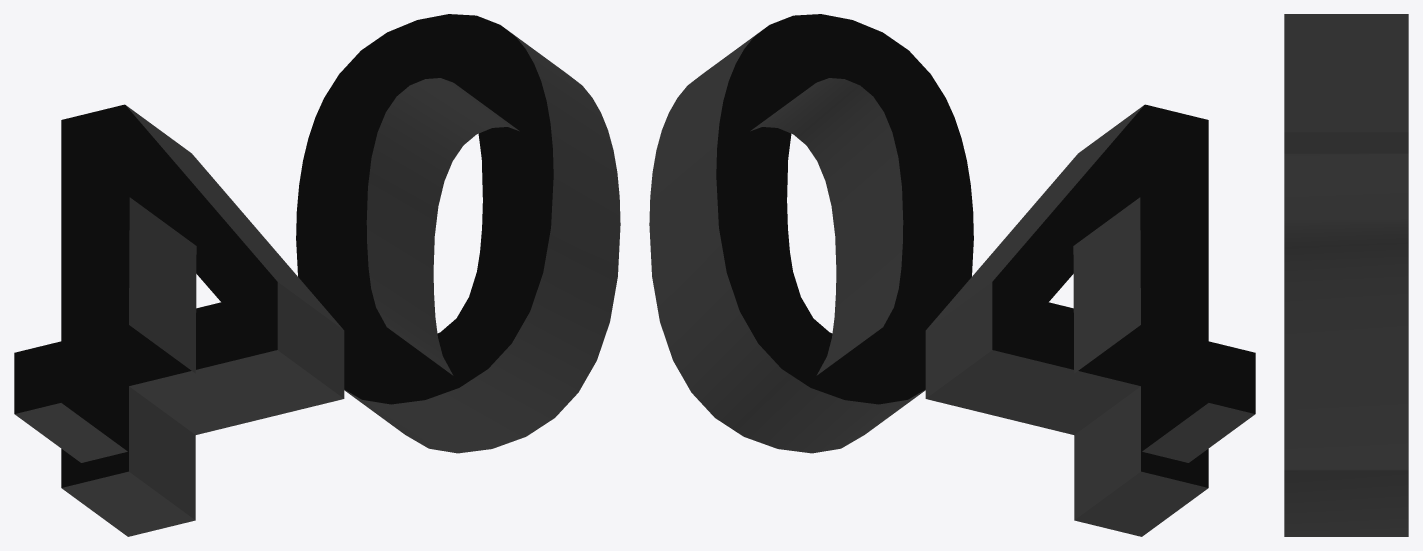
The model's file is ps2_save-icons_colinmcraerally04.glb.
The picture shows the model from 3 angles, left to right: view 1: azimuth 30°, elevation 25°; view 2: azimuth 150°, elevation 25°; view 3: azimuth 270°, elevation 25°; orthographic projection. The views are drawn at different scales.
Parts seen in each view (by area): view 1: icon.ico; view 2: icon.ico; view 3: icon.ico.
Part boxes in pixels (x1,y1,x2,y2): icon.ico: [14, 14, 620, 536]; icon.ico: [649, 14, 1255, 536]; icon.ico: [1284, 14, 1408, 536].
Bounding box in the file's own units: 5 × 3.39 × 1.07.
Materials: 1 (1 with a texture image).
